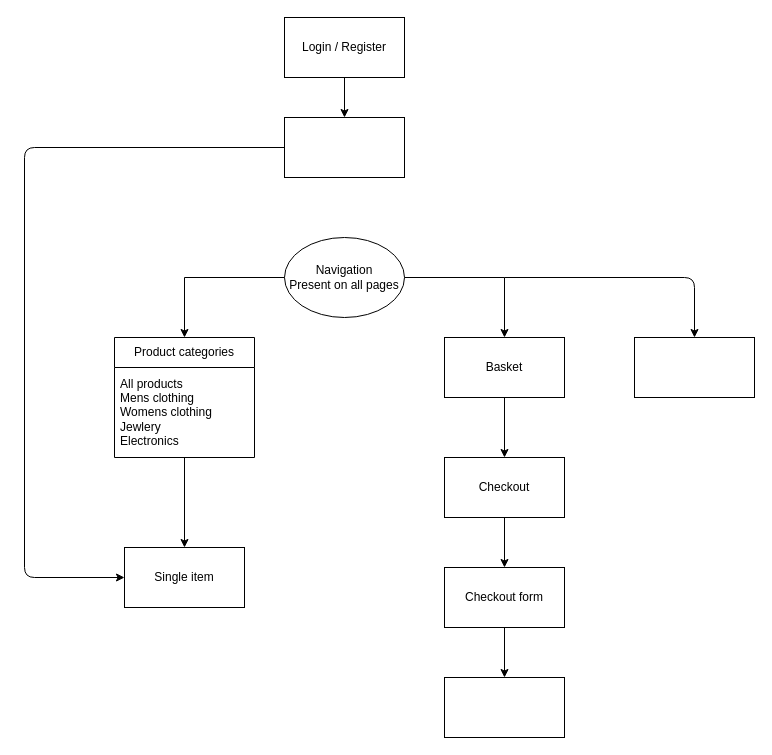
Image size: 772x755. Some labels were removed from this diagram. Each missing label, with the centre of its shape:
Logout: pixel 694 367
Payment pop up: pixel 504 707
Shop / Home: pixel 344 147
